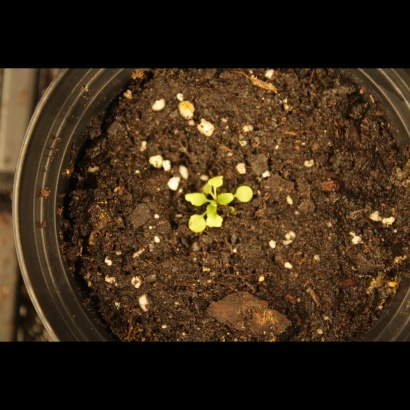leaf: (231, 181, 262, 210), (183, 184, 207, 211), (184, 211, 209, 236), (204, 169, 228, 192), (215, 192, 238, 215), (208, 210, 231, 233)
